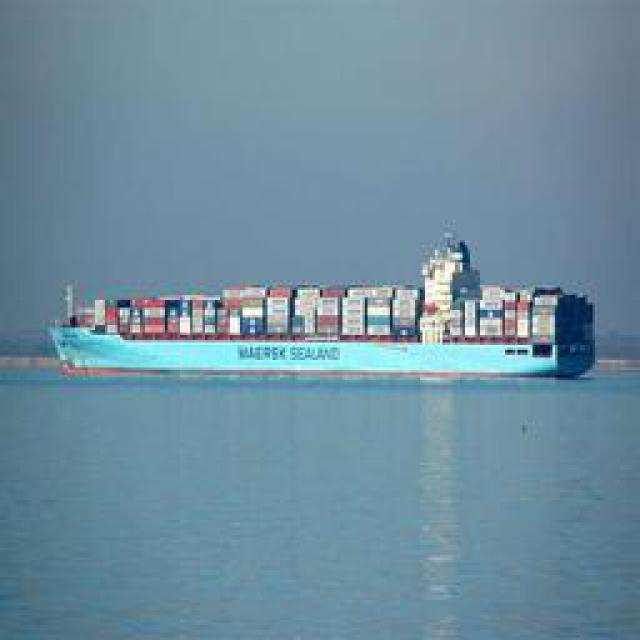Ship: (36, 275, 589, 378)
